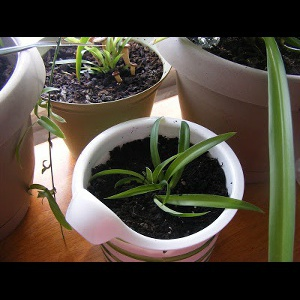flowerpot: (72, 117, 245, 262), (157, 37, 300, 183), (31, 38, 172, 173), (1, 36, 48, 241)
